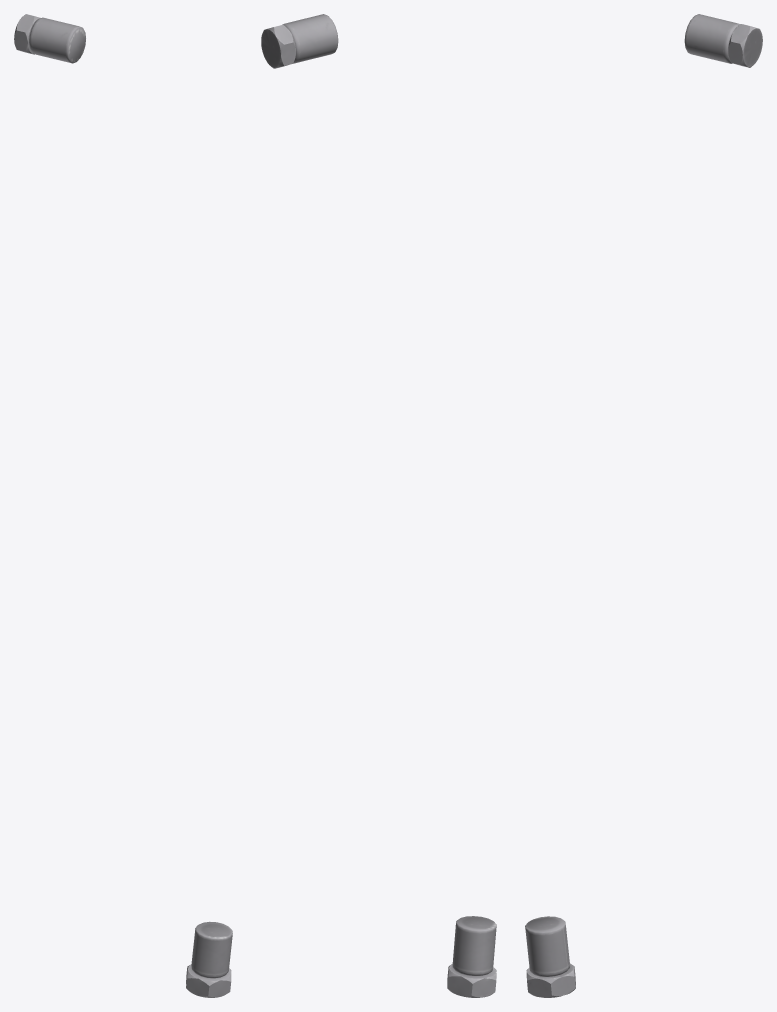
Rendered from Hose Connectors.glb.
The picture shows the model from 3 angles, left to right: view 1: azimuth 90°, elevation 25°; view 2: azimuth 150°, elevation 25°; view 3: azimuth 270°, elevation 25°; orthographic projection. The views are drawn at different scales.
Parts seen in each view (by area): view 1: Hose Fittings; view 2: Hose Fittings; view 3: Hose Fittings.
Boxes of the visible parts, left/top/right/bottom form: Hose Fittings: left=14, top=14, right=232, bottom=997; Hose Fittings: left=261, top=14, right=496, bottom=997; Hose Fittings: left=525, top=14, right=762, bottom=997.
Bounding box in the file's own units: 0.0781 × 0.5433 × 0.1156.
Materials: 1 (1 with a texture image).
